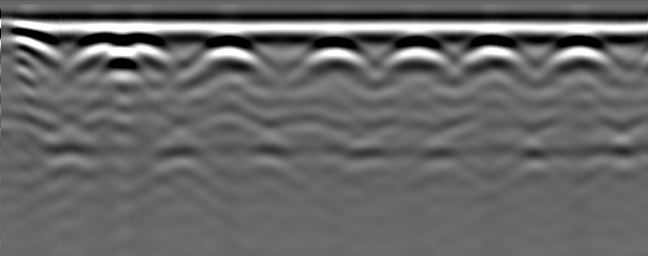pipe: (1, 24, 55, 43)
steel: (304, 40, 362, 80), (196, 38, 257, 76), (467, 39, 519, 74), (553, 41, 605, 76), (390, 38, 443, 72), (121, 36, 167, 72), (77, 34, 118, 67)
